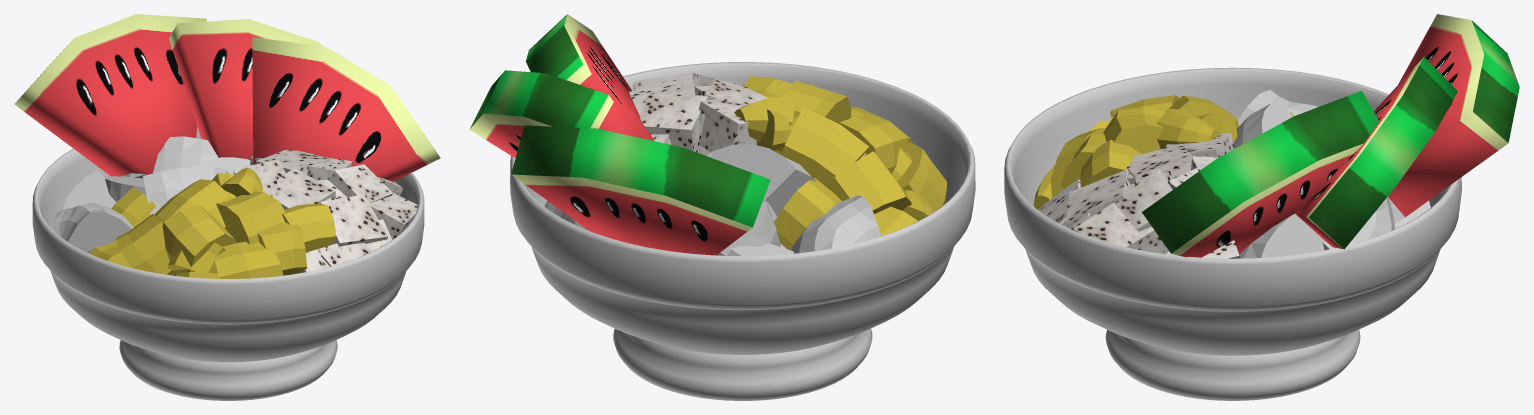
The model's file is BowlContent3.obj.
3 renders of one model, left to right at view 1: azimuth 30°, elevation 25°; view 2: azimuth 150°, elevation 25°; view 3: azimuth 270°, elevation 25°, orthographic. The views are drawn at different scales.
Parts seen in each view (by area): view 1: Cylinder, Melon_low.004_Sphere.007, Melon_low.006_Sphere.009, Melon_low.005_Sphere.008, Cylinder.001, Banana_to_export.014_Cylinder.016, Bouncing_apple.047_Cylinder.014, Banana_to_export.024_Cylinder.017, Cube.010_Cube.003, Banana_to_export.012_Cylinder.017, Banana_to_export.020_Cylinder.016, Bouncing_apple.048_Cylinder.015 (+19 smaller); view 2: Cylinder, Melon_low.004_Sphere.007, Cylinder.001, Melon_low.005_Sphere.008, Melon_low.006_Sphere.009, Banana_to_export.008_Cylinder.016, Bouncing_apple.048_Cylinder.015, Bouncing_apple.047_Cylinder.014, Banana_to_export.012_Cylinder.017, Cube.022_Cube.003, Banana_to_export.005_Cylinder.016, Cube.008_Cube.003 (+13 smaller); view 3: Cylinder, Melon_low.006_Sphere.009, Melon_low.004_Sphere.007, Melon_low.005_Sphere.008, Cylinder.001, Bouncing_apple.040_Cylinder.005, Cube.014_Cube.003, Banana_to_export.024_Cylinder.017, Cube.010_Cube.003, Cube.012_Cube.003, Banana_to_export.010_Cylinder.002, Banana_to_export.023_Cylinder.016 (+11 smaller).
Part boxes in pixels (box(x1,y1,x2,y2)): Cylinder: box(32, 127, 424, 362); Melon_low.004_Sphere.007: box(14, 14, 206, 176); Melon_low.006_Sphere.009: box(252, 37, 440, 181); Melon_low.005_Sphere.008: box(169, 19, 323, 159); Cylinder.001: box(119, 340, 337, 400); Banana_to_export.014_Cylinder.016: box(162, 204, 236, 273); Bouncing_apple.047_Cylinder.014: box(53, 203, 133, 252); Banana_to_export.024_Cylinder.017: box(216, 191, 285, 244); Cube.010_Cube.003: box(319, 194, 387, 246); Banana_to_export.012_Cylinder.017: box(115, 214, 175, 275); Banana_to_export.020_Cylinder.016: box(214, 241, 283, 278); Bouncing_apple.048_Cylinder.015: box(143, 166, 228, 214); Cylinder: box(510, 62, 975, 354); Melon_low.004_Sphere.007: box(511, 125, 770, 255); Cylinder.001: box(613, 328, 872, 400); Melon_low.005_Sphere.008: box(469, 70, 638, 157); Melon_low.006_Sphere.009: box(526, 14, 654, 140); Banana_to_export.008_Cylinder.016: box(781, 107, 868, 186); Bouncing_apple.048_Cylinder.015: box(707, 144, 816, 216); Bouncing_apple.047_Cylinder.014: box(791, 195, 881, 253); Banana_to_export.012_Cylinder.017: box(826, 151, 911, 213); Cube.022_Cube.003: box(640, 93, 707, 152); Banana_to_export.005_Cylinder.016: box(774, 178, 841, 250); Cube.008_Cube.003: box(698, 99, 756, 152); Cylinder: box(1004, 67, 1461, 355); Melon_low.006_Sphere.009: box(1142, 91, 1379, 257); Melon_low.004_Sphere.007: box(1388, 14, 1519, 217); Melon_low.005_Sphere.008: box(1296, 57, 1457, 249); Cylinder.001: box(1105, 329, 1360, 400); Bouncing_apple.040_Cylinder.005: box(1239, 213, 1325, 258); Cube.014_Cube.003: box(1074, 203, 1164, 253); Banana_to_export.024_Cylinder.017: box(1103, 107, 1165, 154); Cube.010_Cube.003: box(1066, 169, 1130, 226); Cube.012_Cube.003: box(1114, 169, 1172, 246); Banana_to_export.010_Cylinder.002: box(1156, 108, 1220, 149); Banana_to_export.023_Cylinder.016: box(1080, 139, 1141, 187).
Size of the model in its own units: 1.3 by 0.9311 by 1.4.
